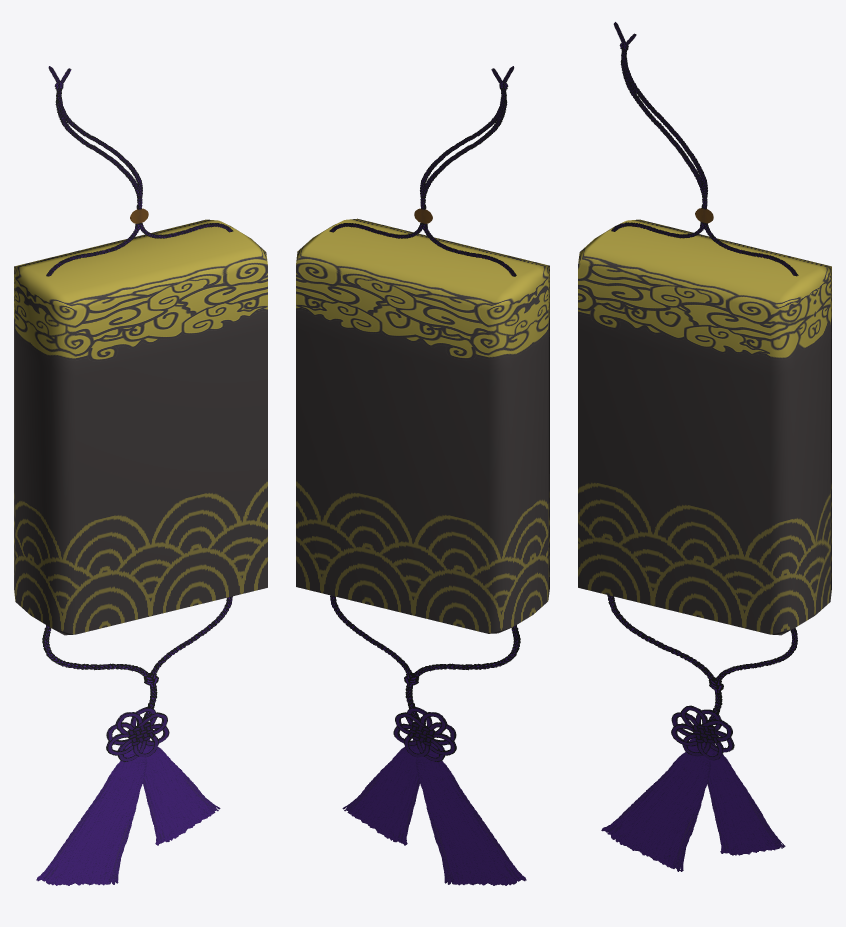
Rendered from inrou.fbx.
The picture shows the model from 3 angles, left to right: view 1: azimuth 30°, elevation 25°; view 2: azimuth 150°, elevation 25°; view 3: azimuth 330°, elevation 25°; orthographic projection.
Visible parts, largest first — view 1: inrou_youki, inrou_huta; view 2: inrou_youki, inrou_huta; view 3: inrou_youki, inrou_huta.
Boxes of the visible parts, <box> form: inrou_youki: <box>14,330,267,885</box>; inrou_huta: <box>14,66,267,376</box>; inrou_youki: <box>296,329,549,885</box>; inrou_huta: <box>296,66,549,375</box>; inrou_youki: <box>578,330,831,871</box>; inrou_huta: <box>578,22,831,376</box>.
Bounding box in the file's own units: 6 × 22 × 2.9.
